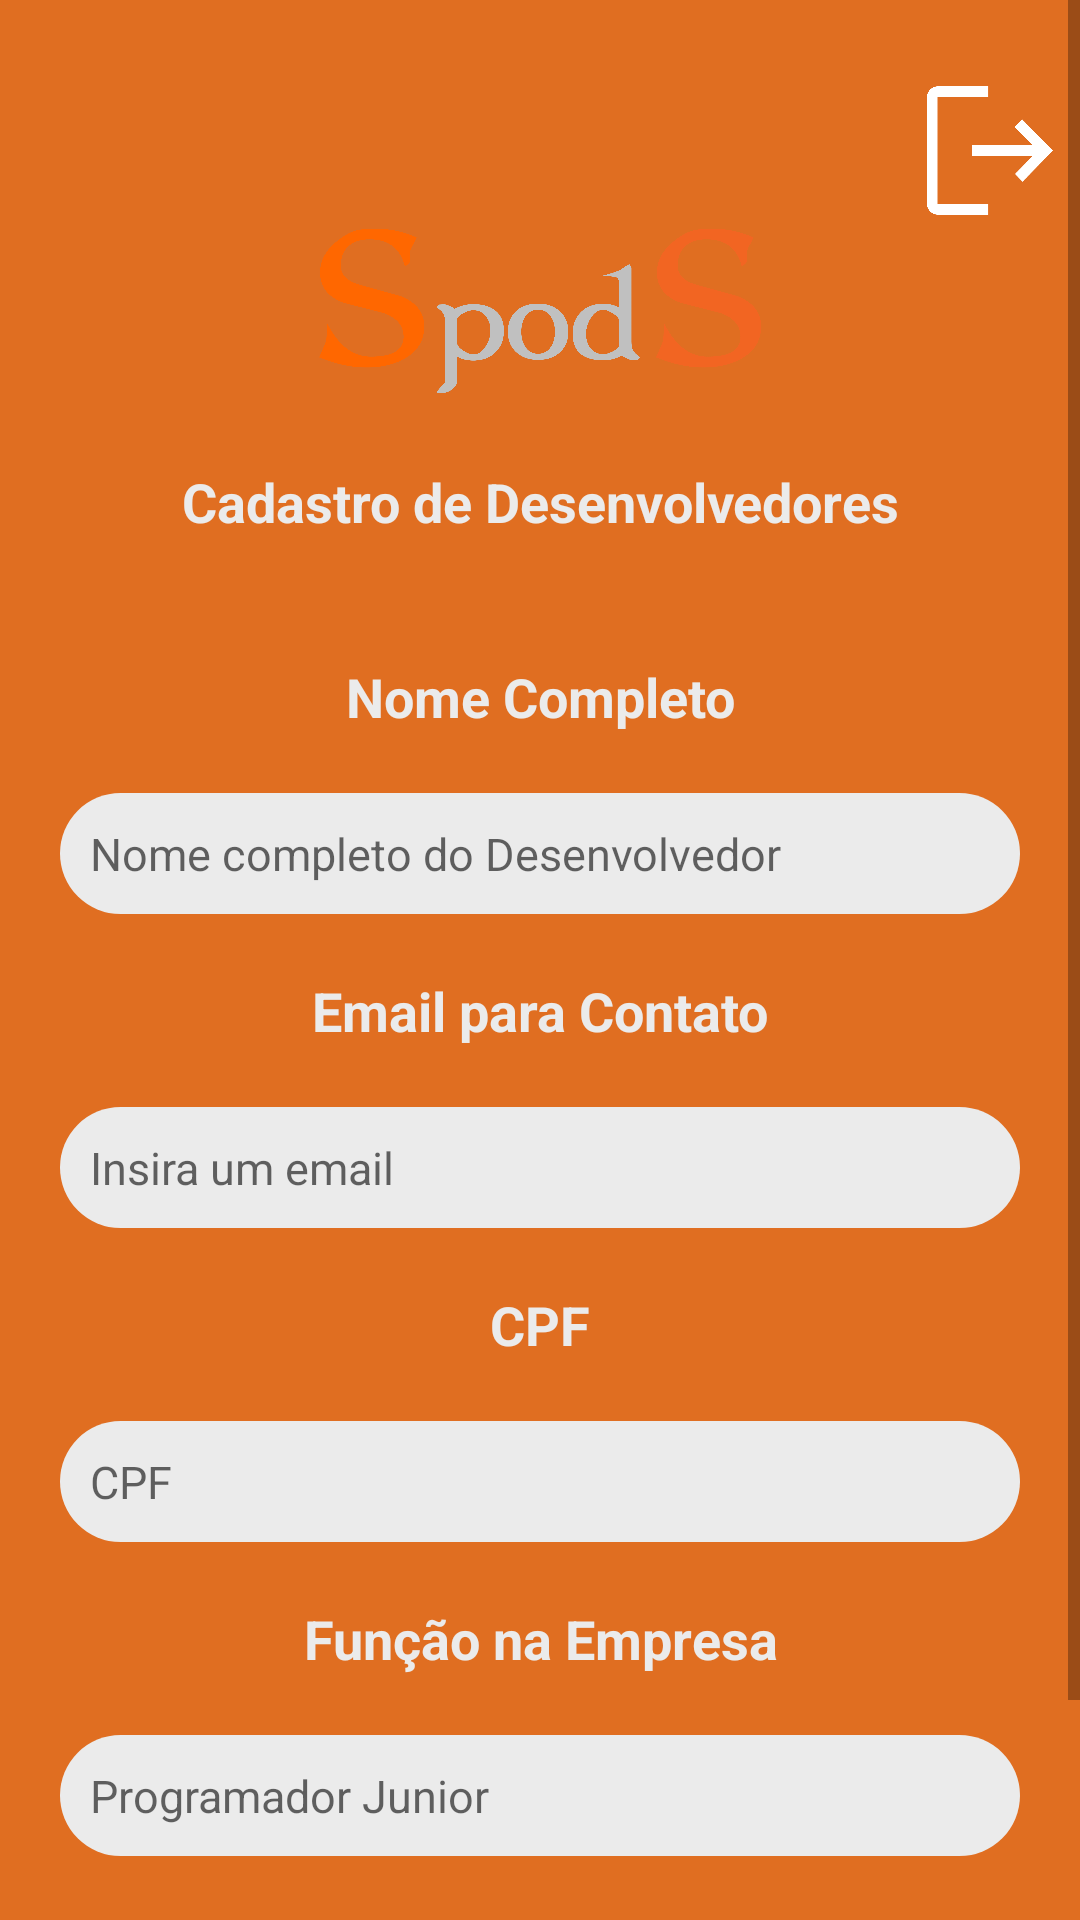

Point at icon controls on the screen. Image size 1080w x 1920h, points as (x,y).
exit: (990,150)
